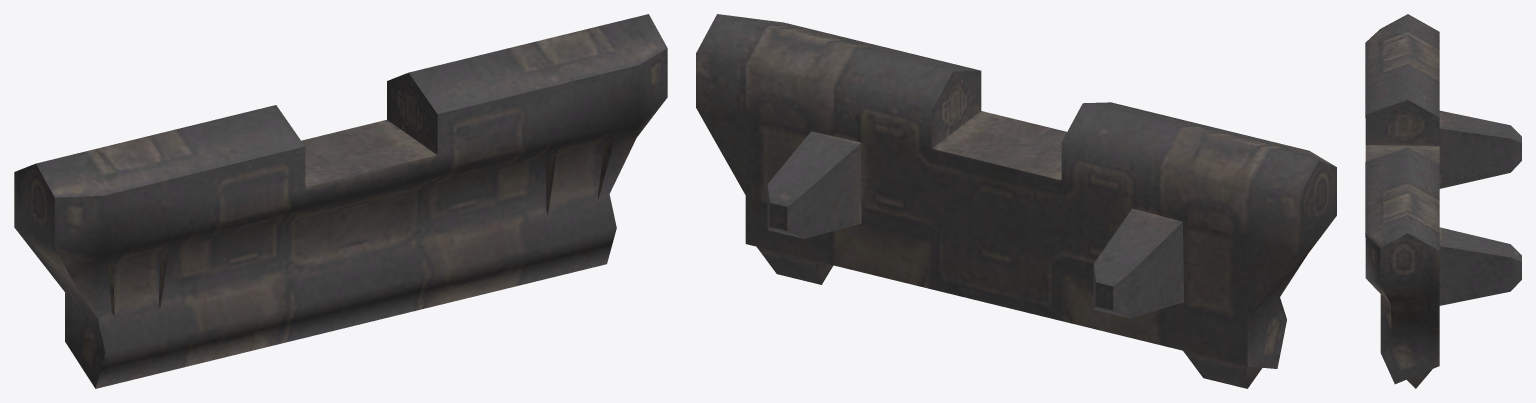
3 views of the same model, side by side, from view 1: azimuth 30°, elevation 25°; view 2: azimuth 150°, elevation 25°; view 3: azimuth 270°, elevation 25° (orthographic). The views are drawn at different scales.
Visible parts, largest first — view 1: set_0_group_0; view 2: set_0_group_0; view 3: set_0_group_0.
Part boxes in pixels (bbox=[...]): set_0_group_0: bbox=[14, 14, 667, 388]; set_0_group_0: bbox=[696, 14, 1336, 388]; set_0_group_0: bbox=[1365, 14, 1521, 388].
Size of the model in its own units: 0.5509 by 0.2105 by 0.1667.
1 material, 1 textured.
